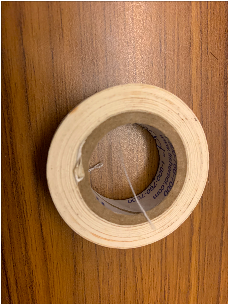Nonfood: (50, 90, 204, 241)
